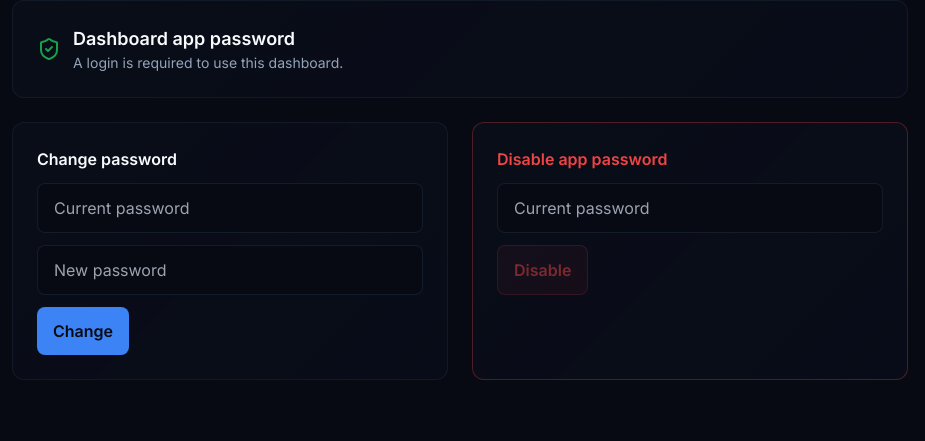
Test case: shows the lockout and its retry time
Step 1. Type "old" into the password field with placeholder "Current password" below "Change password" → (230, 208), box [37, 183, 423, 233]
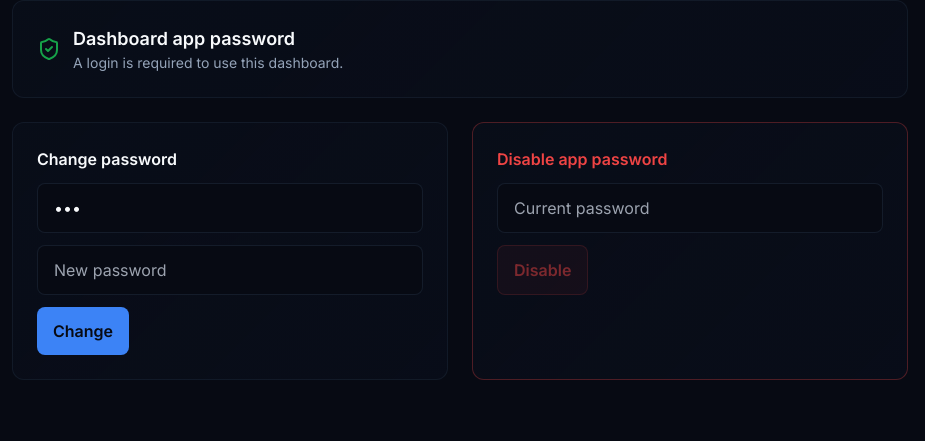
Step 2. Type "new" into the password field with placeholder "New password" → (230, 270), box [37, 245, 423, 295]
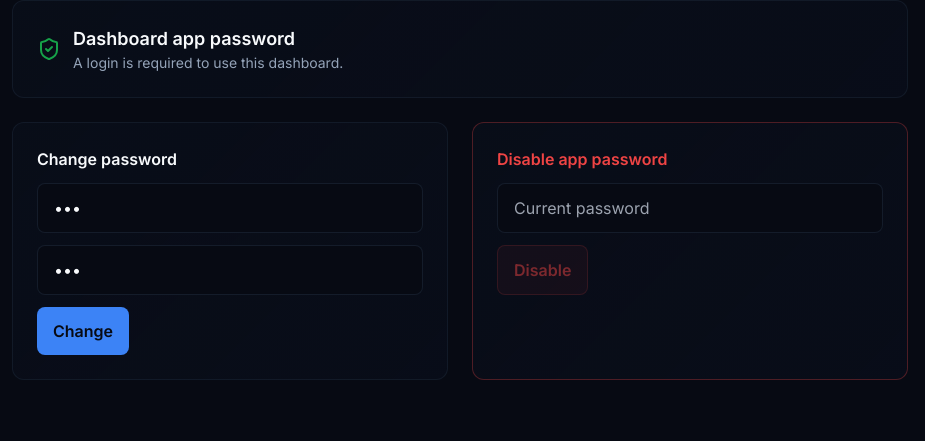
Step 3. Click the button "Change" → (83, 331), box [37, 307, 129, 355]
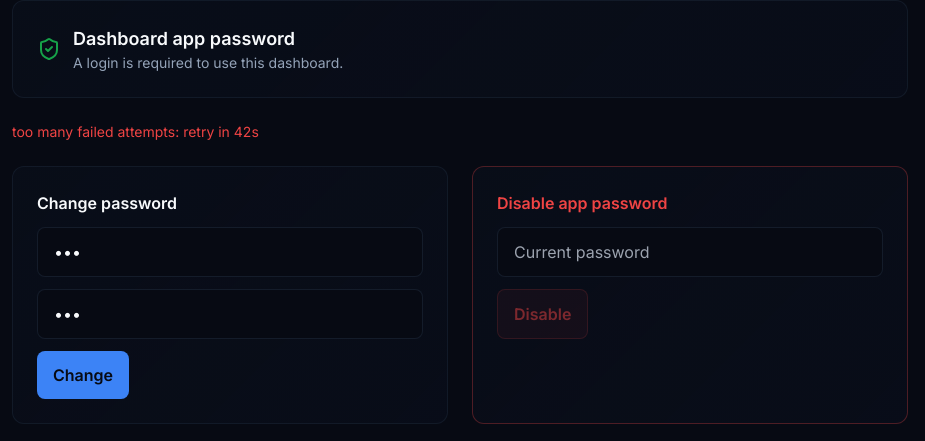
expect the text "too many failed attempts: retry in 42s" is shown: met, box [12, 123, 259, 140]
